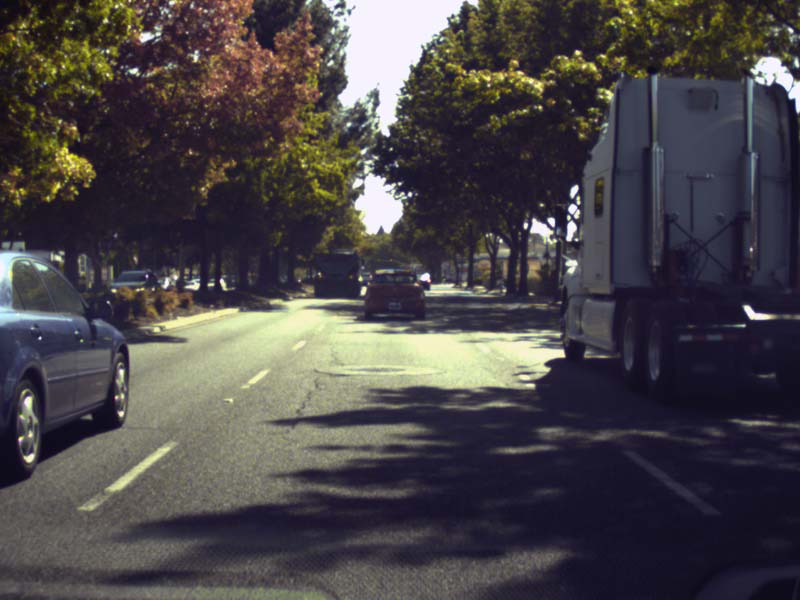Green: (553, 203, 566, 236)
Yellow: (389, 255, 392, 262)
